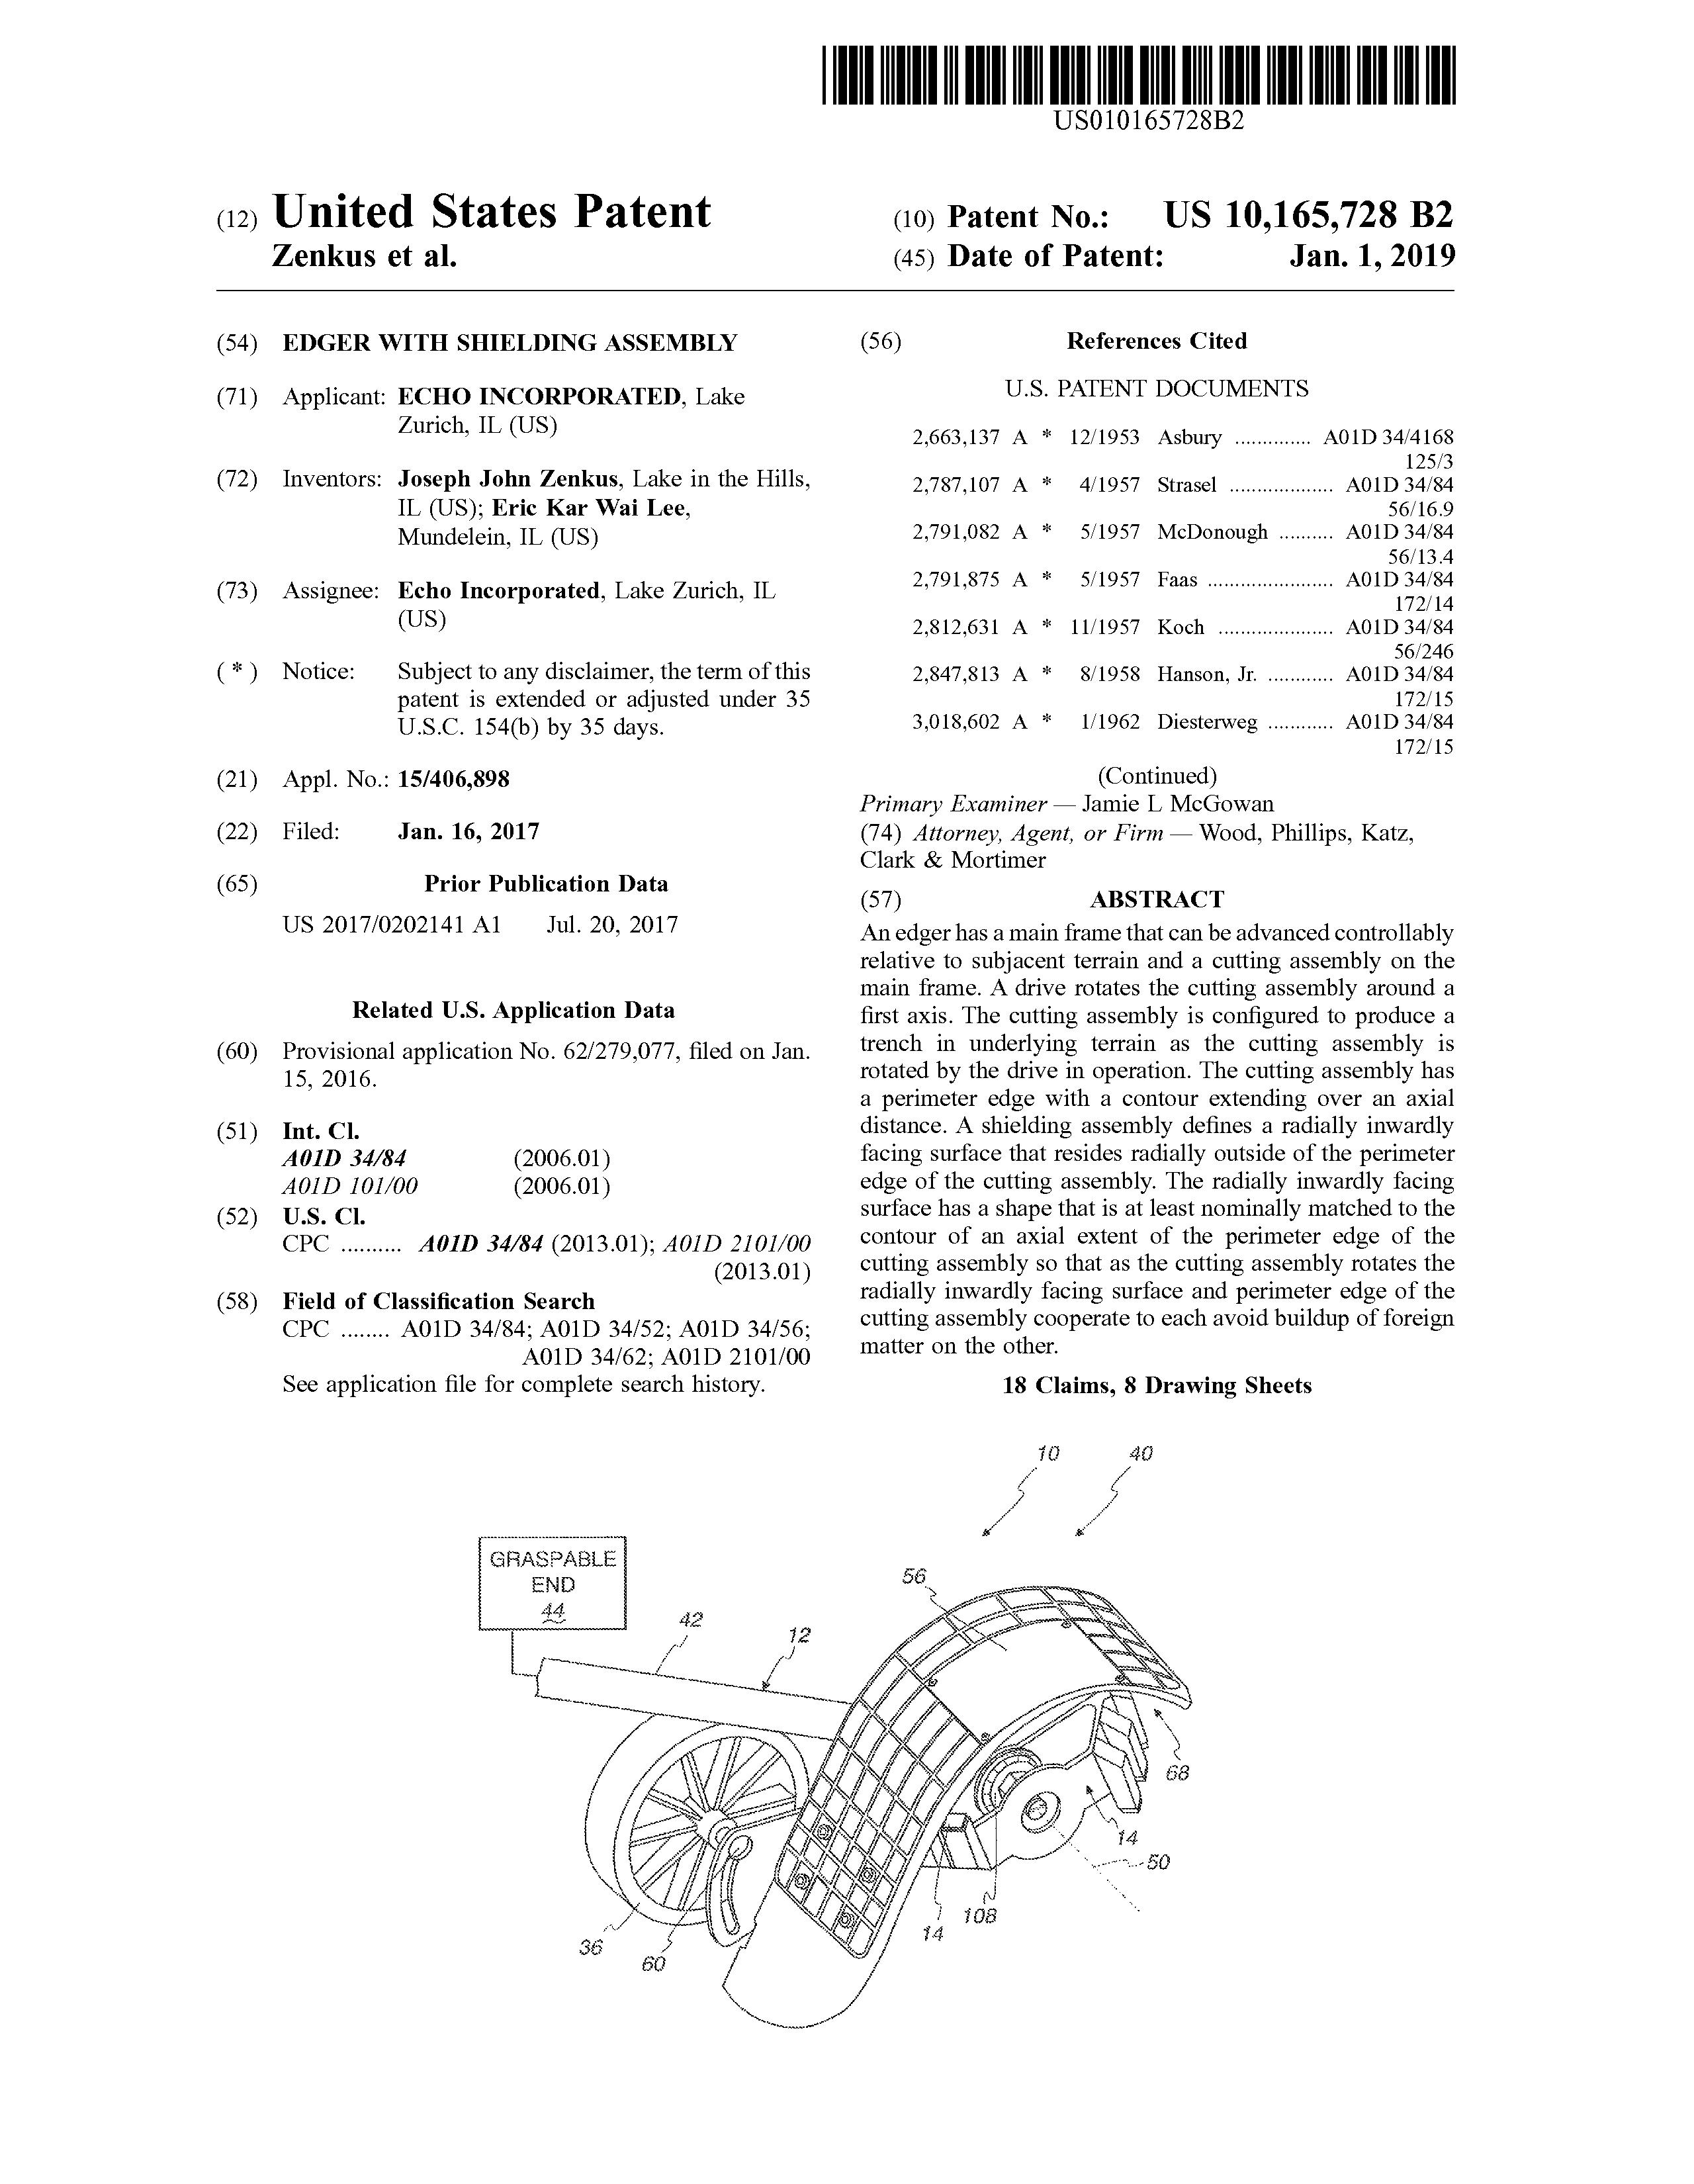patent image: (385, 1416, 1306, 2052)
